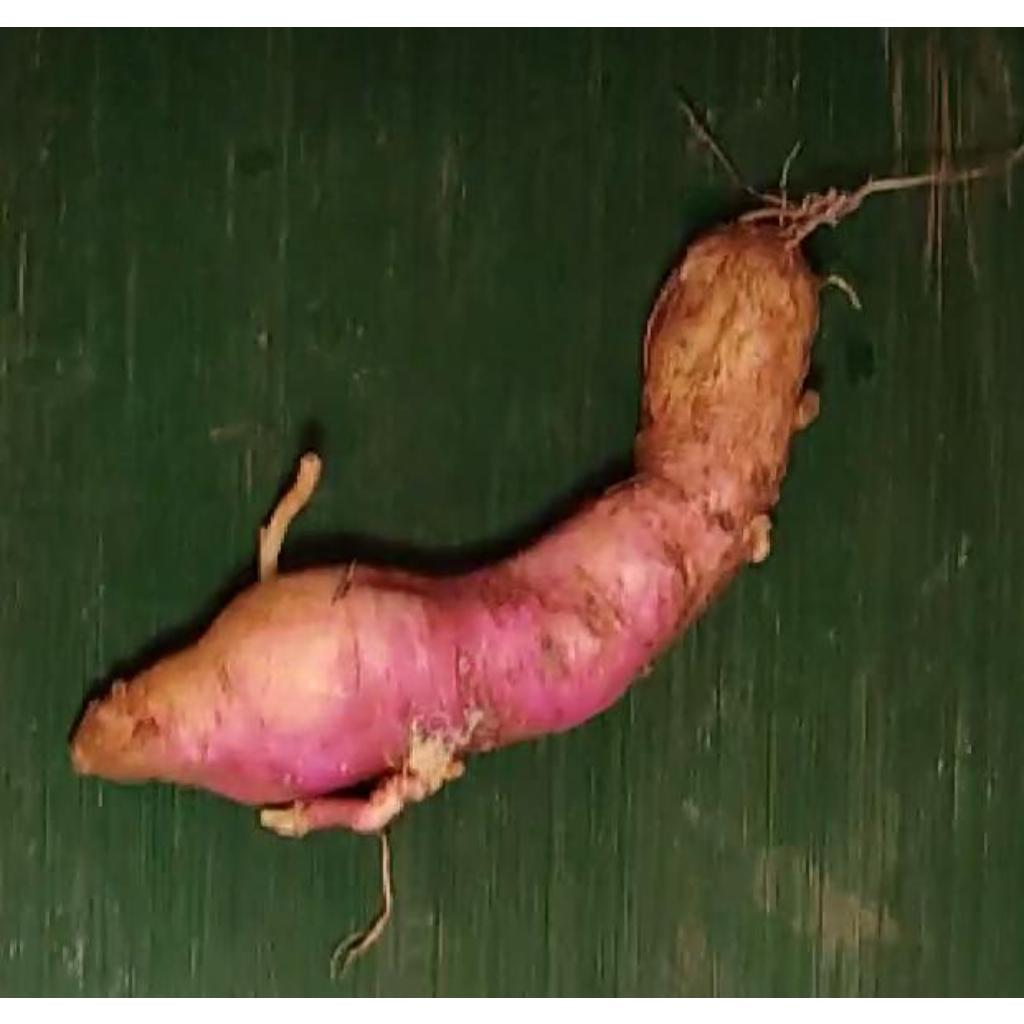Sweet Potato: (76, 218, 821, 839)
